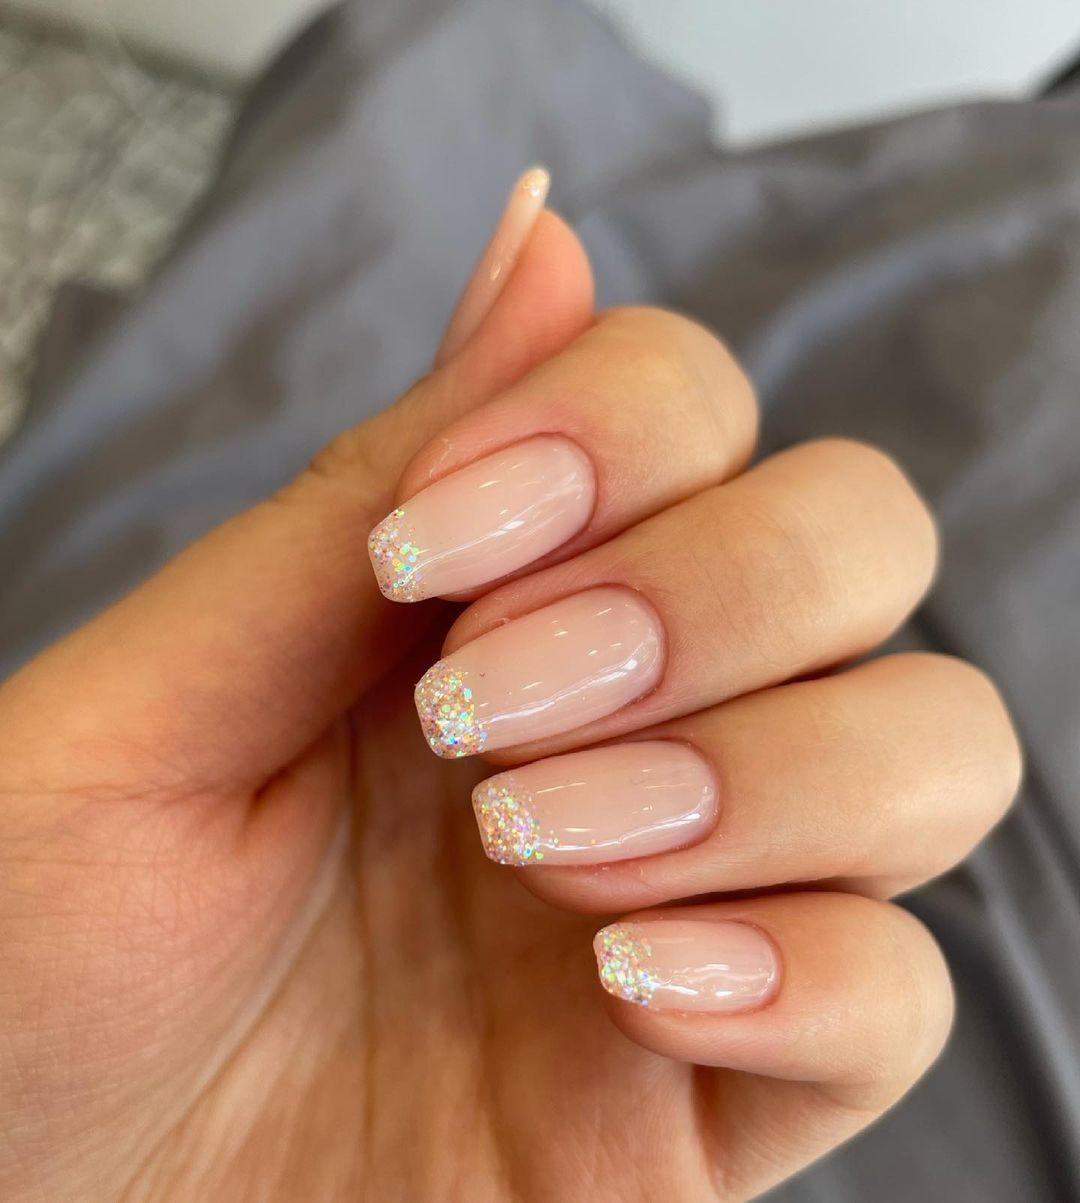nail: (412, 581, 668, 760), (365, 429, 598, 605), (469, 736, 722, 868), (434, 163, 551, 369), (591, 915, 784, 1015)
